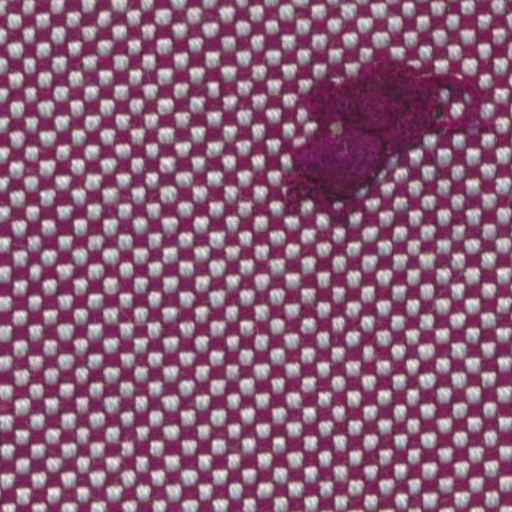MianQiu: (268, 30, 480, 214)
